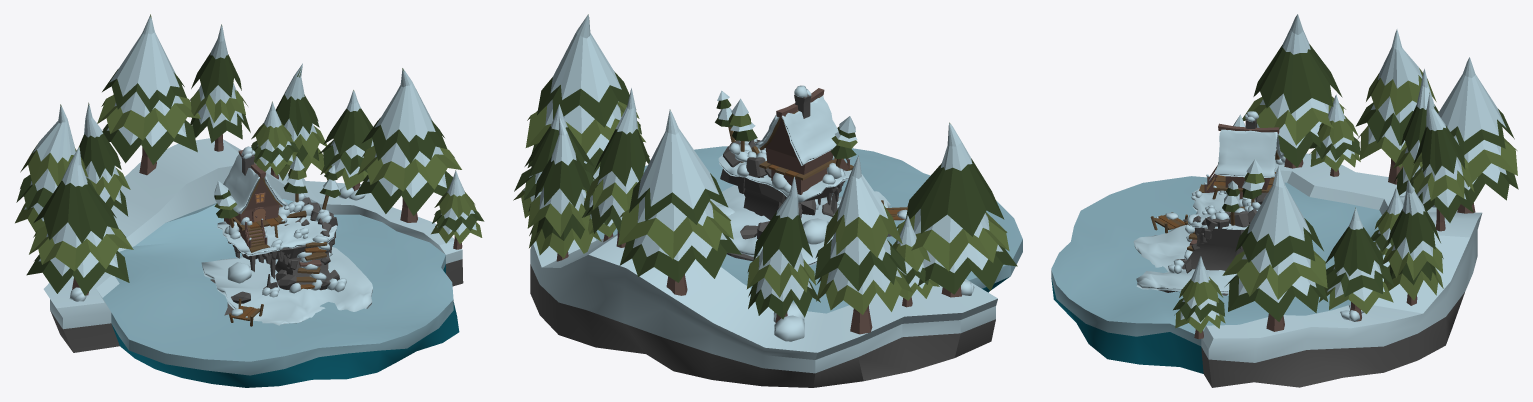
The picture shows the model from 3 angles, left to right: view 1: azimuth 30°, elevation 25°; view 2: azimuth 150°, elevation 25°; view 3: azimuth 270°, elevation 25°; orthographic projection. The views are drawn at different scales.
Parts seen in each view (by area): view 1: frozen_lake_1, Cone.003_196, Cone.002_194, Cone.006_202, bottom_snow_176, Cone.007_214, Cone.010_208, Cone.004_198, Cone.000_212, Cone.001_210, Cone.008_204, Cone.005_200 (+5 smaller); view 2: frozen_lake_1, Cone.003_196, Cone.002_194, Cone.010_208, Cone.006_202, Cone.001_210, Cone.000_212, Cone.007_214, pCube89_150, bottom_snow_176, Cone.004_198, Cone.009_206 (+9 smaller); view 3: frozen_lake_1, Cone.006_202, Cone.002_194, Cone.003_196, Cone.010_208, Cone.007_214, Cone.000_212, Cone.004_198, bottom_snow_176, pCube88_149, Cone.008_204, Cone.009_206 (+5 smaller).
Part boxes in pixels (box(x1,y1,x2,y2)): frozen_lake_1: box(43, 138, 463, 387); Cone.003_196: box(97, 14, 200, 165); Cone.002_194: box(26, 146, 133, 295); Cone.006_202: box(355, 68, 461, 216); bottom_snow_176: box(201, 247, 372, 325); Cone.007_214: box(190, 24, 250, 143); Cone.010_208: box(15, 104, 96, 232); Cone.004_198: box(319, 90, 373, 189); Cone.000_212: box(270, 63, 327, 180); Cone.001_210: box(79, 102, 130, 216); Cone.008_204: box(431, 170, 484, 244); Cone.005_200: box(251, 101, 300, 175); frozen_lake_1: box(530, 146, 1022, 387); Cone.003_196: box(618, 109, 741, 282); Cone.002_194: box(896, 122, 1017, 294); Cone.010_208: box(814, 155, 913, 314); Cone.006_202: box(525, 14, 649, 175); Cone.001_210: box(746, 176, 820, 319); Cone.000_212: box(527, 116, 601, 258); Cone.007_214: box(584, 88, 650, 233); pCube89_150: box(782, 95, 838, 165); bottom_snow_176: box(710, 185, 890, 265); Cone.004_198: box(513, 104, 594, 218); Cone.009_206: box(892, 215, 939, 300); frozen_lake_1: box(1051, 153, 1482, 387); Cone.006_202: box(1222, 165, 1327, 321); Cone.002_194: box(1242, 14, 1345, 167); Cone.003_196: box(1413, 57, 1518, 205); Cone.010_208: box(1355, 29, 1436, 168); Cone.007_214: box(1411, 92, 1474, 222); Cone.000_212: box(1383, 179, 1443, 300); Cone.004_198: box(1319, 207, 1394, 313); bottom_snow_176: box(1133, 225, 1236, 293); pCube88_149: box(1214, 129, 1277, 177); Cone.008_204: box(1173, 256, 1225, 332); Cone.009_206: box(1309, 94, 1360, 171).
Size of the model in its own units: 6.84 by 3.58 by 6.46.
